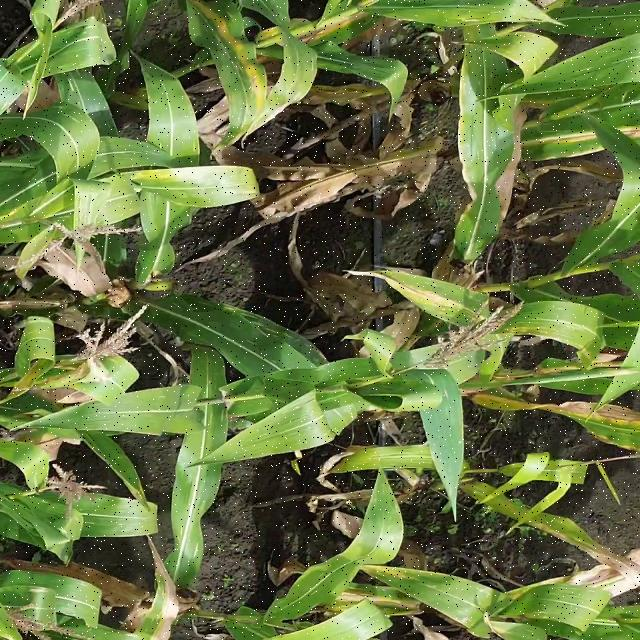gray-leaf-spot: (218, 303, 297, 352), (79, 502, 156, 536), (507, 313, 588, 341), (58, 22, 111, 61), (456, 582, 499, 630), (282, 400, 332, 439), (58, 66, 107, 105), (420, 370, 458, 420), (530, 582, 582, 618), (32, 104, 91, 134), (155, 136, 203, 169), (206, 378, 233, 434), (274, 590, 320, 621), (144, 588, 167, 634), (176, 522, 200, 560)
northern-leaf-blight: (206, 13, 261, 92), (388, 273, 478, 318), (522, 122, 633, 152), (308, 5, 378, 48), (340, 588, 417, 622)
